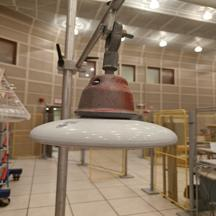insulator: (23, 70, 183, 157)
